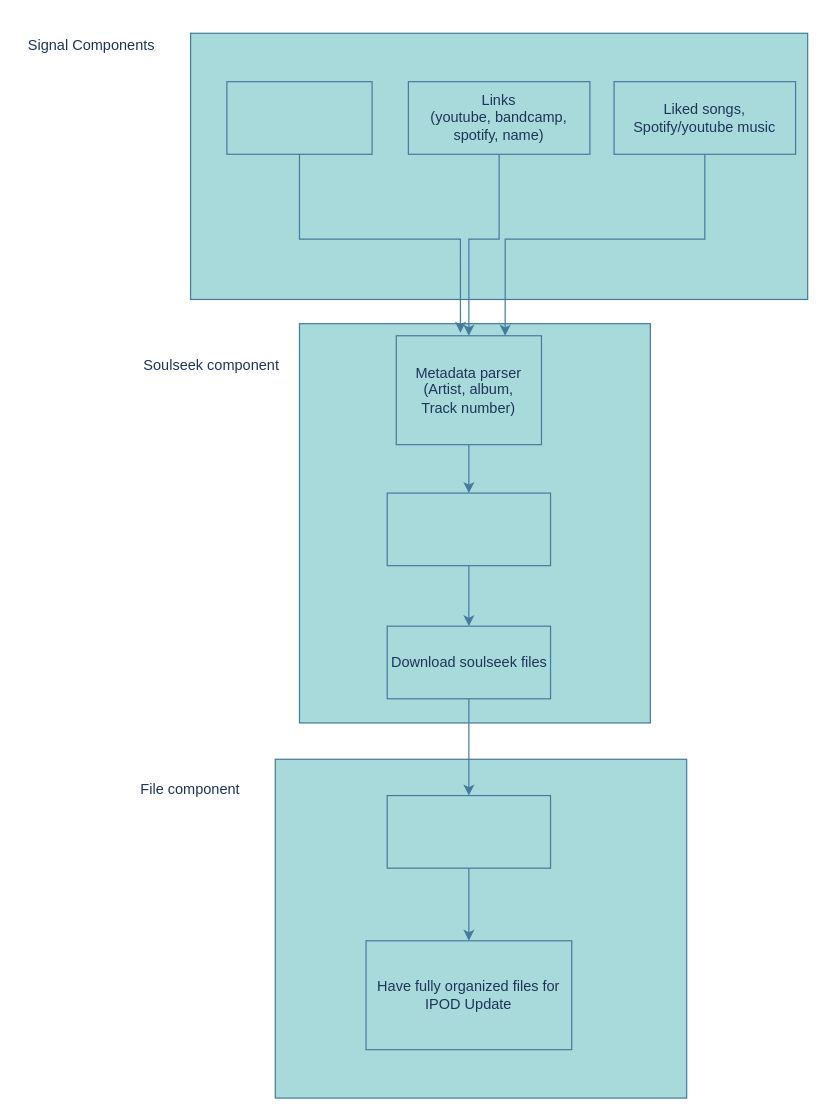
This 829x1119 diagram has some shape labels left out. The shapes that lost their labels are listed below. From the top down, each one's box as (x1, y1, x2, y2) in pixels, then its label:
(226, 80, 372, 154): RYM Rating updates
(386, 492, 551, 566): Soulseek searcher
(386, 794, 551, 868): file and folder organizer, cover art fixer, metadata fixer
